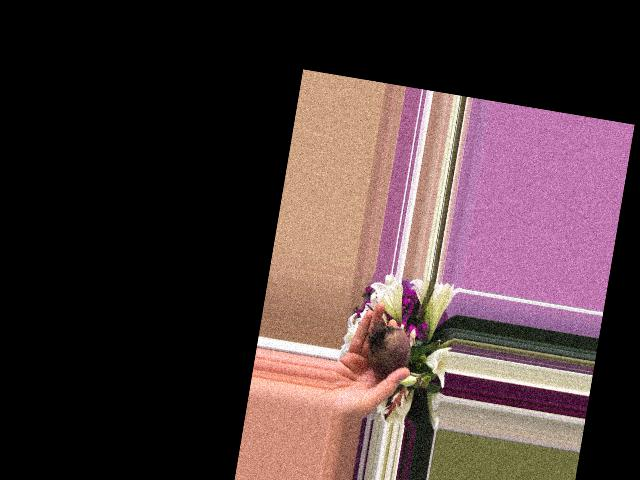beet: (363, 320, 434, 385)
